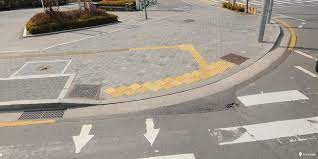guide_blocks: (105, 78, 177, 94), (179, 60, 223, 85), (129, 43, 195, 51), (192, 53, 214, 77)
